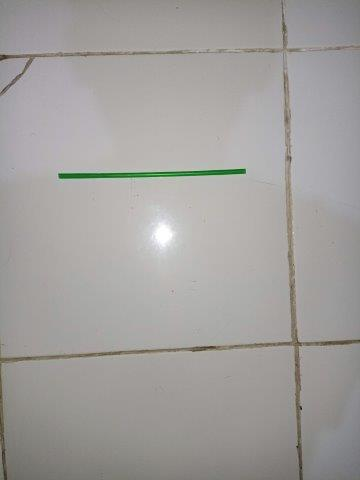sedotan: (59, 169, 246, 178)
